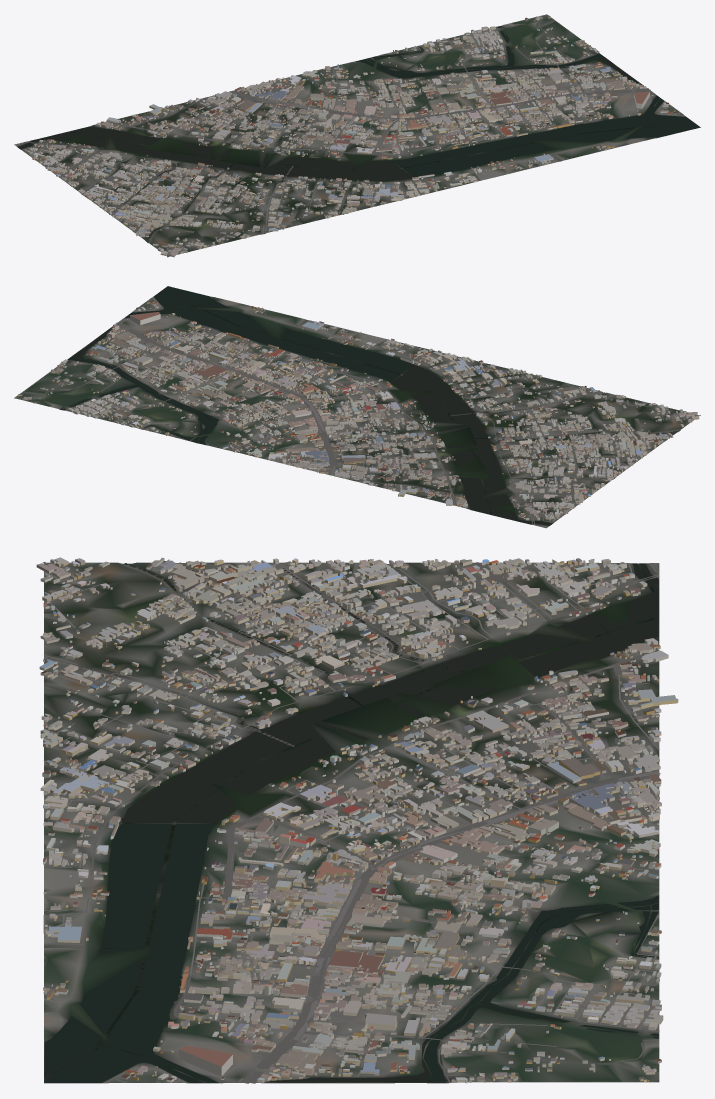
The picture shows the model from 3 angles, top to bottom: view 1: azimuth 30°, elevation 25°; view 2: azimuth 150°, elevation 25°; view 3: azimuth 270°, elevation 25°; orthographic projection. The views are drawn at different scales.
Visible parts, largest first — view 1: ground, buildings, water, roads; view 2: ground, buildings, water, roads; view 3: ground, buildings, water, roads.
Part boxes in pixels (x1,y1,x2,y2): ground: (14,14,700,256); buildings: (24,15,677,257); water: (18,26,699,242); roads: (16,24,680,257); ground: (14,288,698,528); buildings: (17,300,699,521); water: (60,286,679,525); roads: (43,300,700,526); ground: (44,562,659,1083); buildings: (36,557,678,1083); water: (44,562,658,1082); roads: (42,562,660,1083).
Bounding box in the file's own units: 2820 × 28.4 × 1460.
